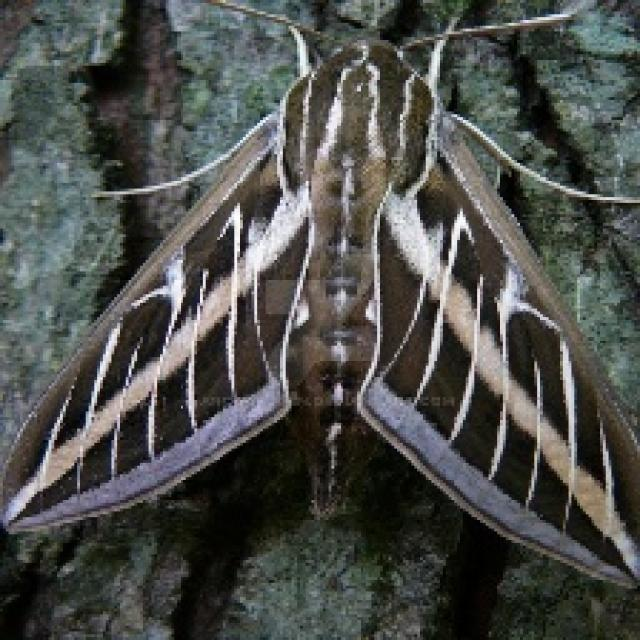butterfly: (0, 17, 637, 600)
